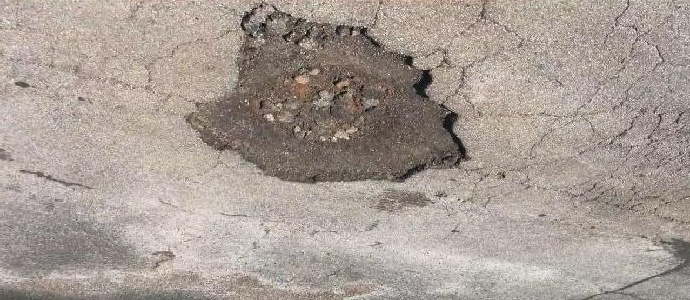pothole: (180, 4, 473, 191)
